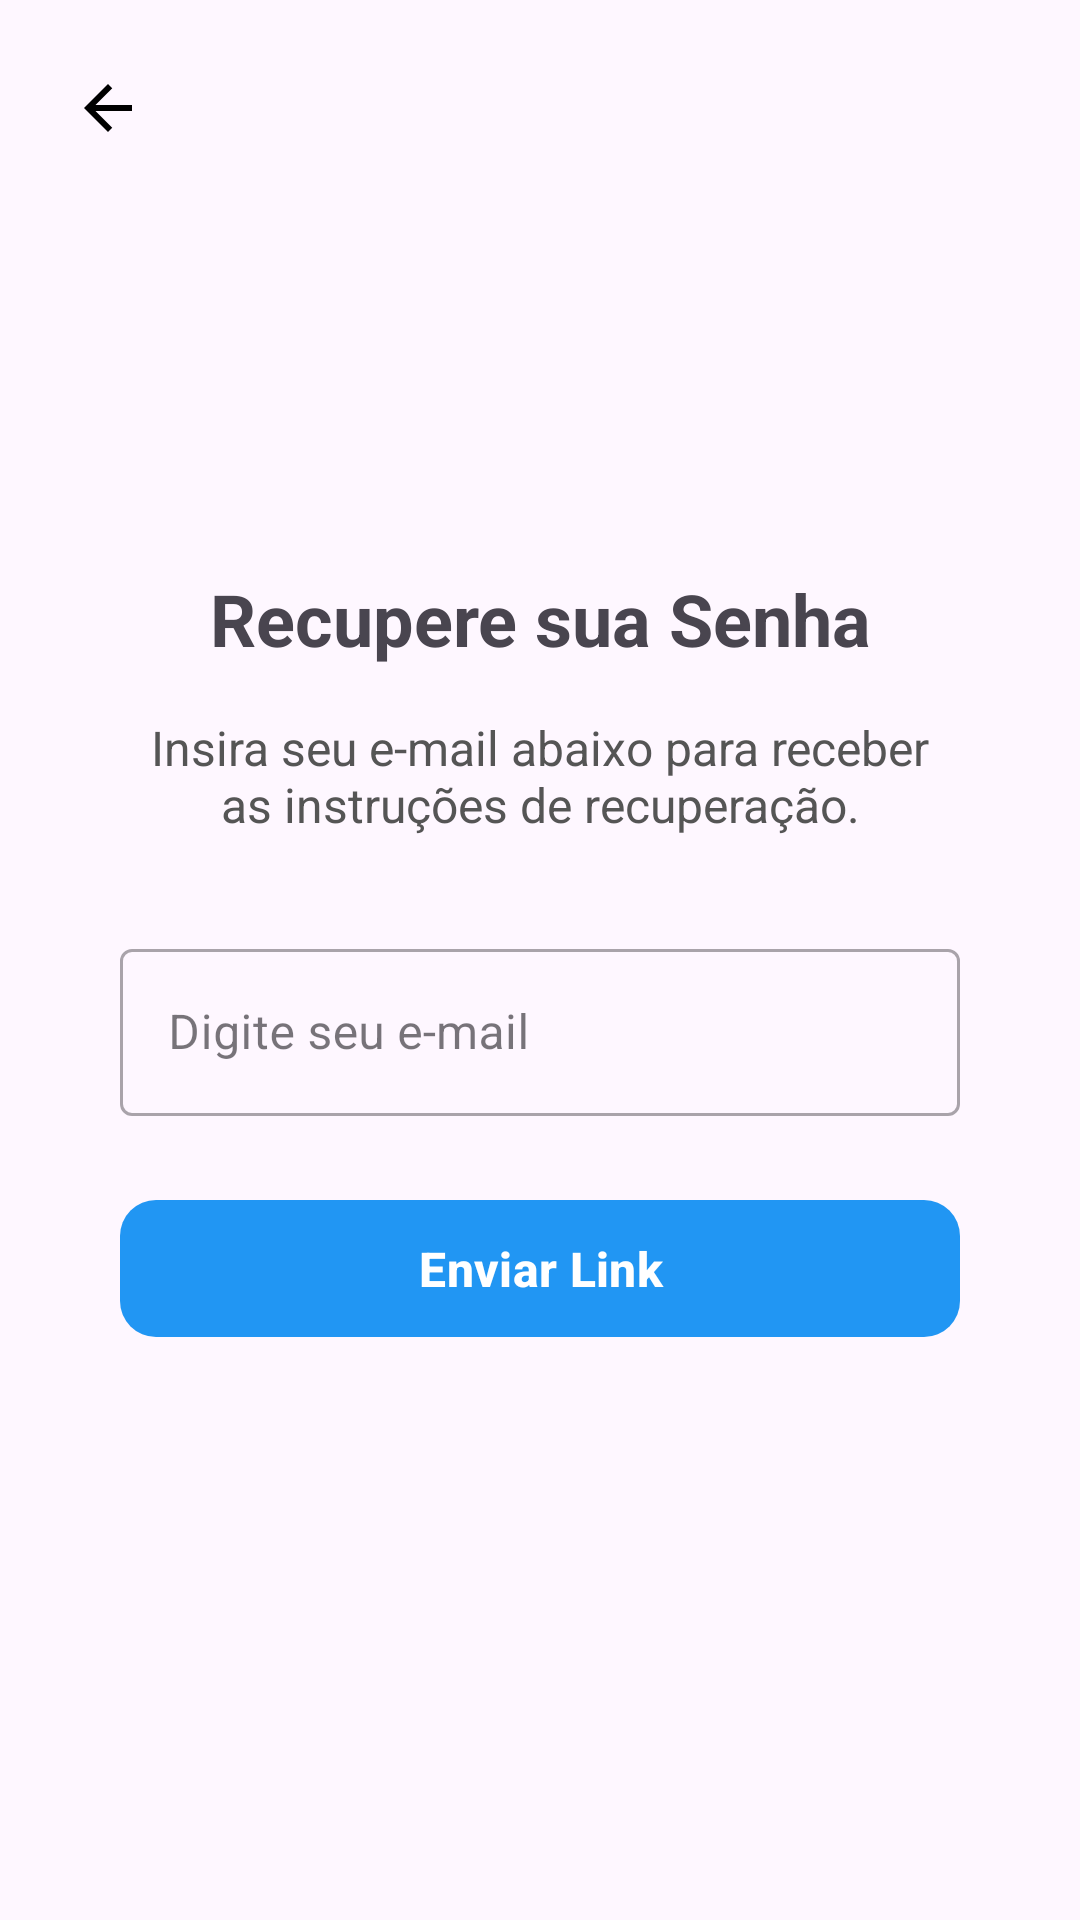

Where to tap for icons on this 1080w x 1920h app screen, as [x,y]:
Voltar: [108,108]
